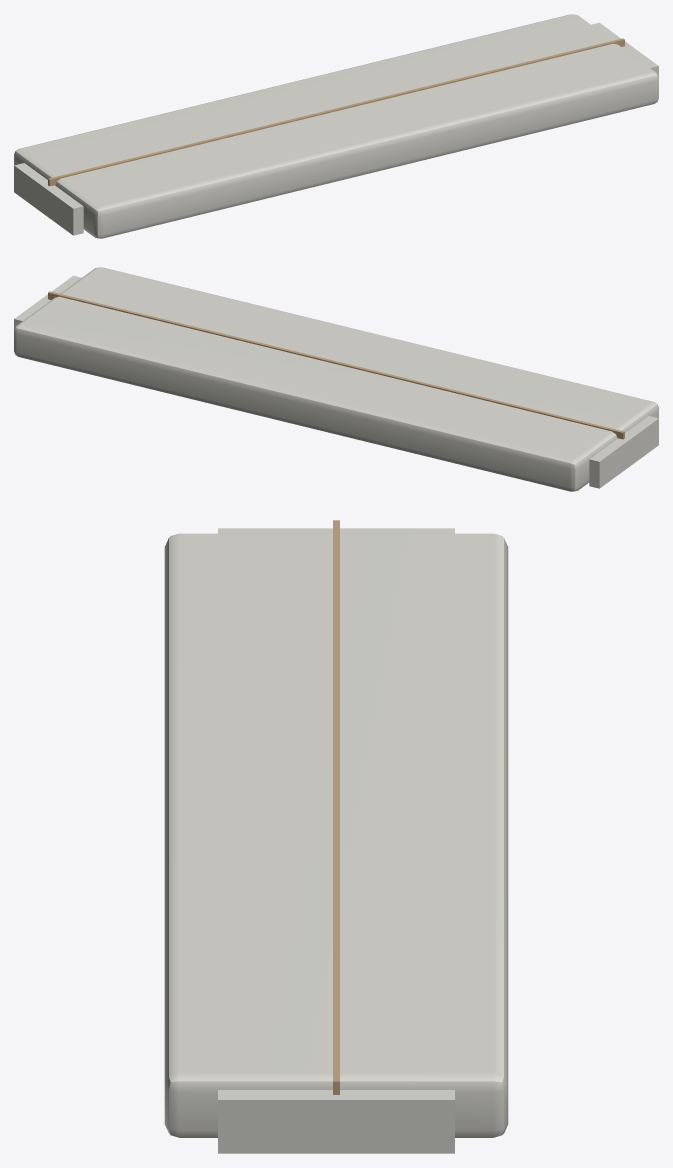
Rendered from FoamBlank.fbx.
The picture shows the model from 3 angles, top to bottom: view 1: azimuth 30°, elevation 25°; view 2: azimuth 150°, elevation 25°; view 3: azimuth 270°, elevation 25°; orthographic projection. The views are drawn at different scales.
Parts seen in each view (by area): view 1: FoamBlank; view 2: FoamBlank; view 3: FoamBlank.
Part boxes in pixels (x1,y1,x2,y2): FoamBlank: [14, 14, 658, 238]; FoamBlank: [14, 267, 658, 491]; FoamBlank: [164, 520, 508, 1153].
Size of the model in its own units: 2.28 by 0.125 by 0.58.
